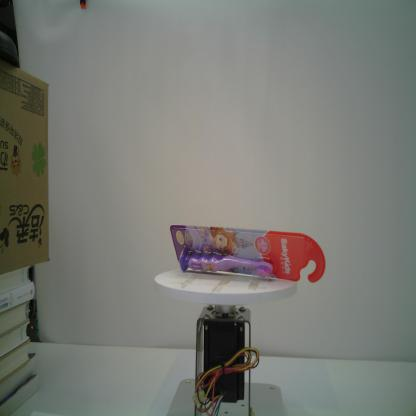Personal Hygiene: (170, 225, 326, 283)
